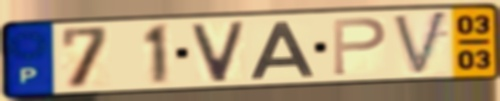1: (141, 21, 176, 88)
7: (59, 25, 113, 91)
A: (247, 19, 318, 81)
P: (330, 16, 390, 78)
V: (389, 8, 452, 79), (188, 19, 249, 85)
